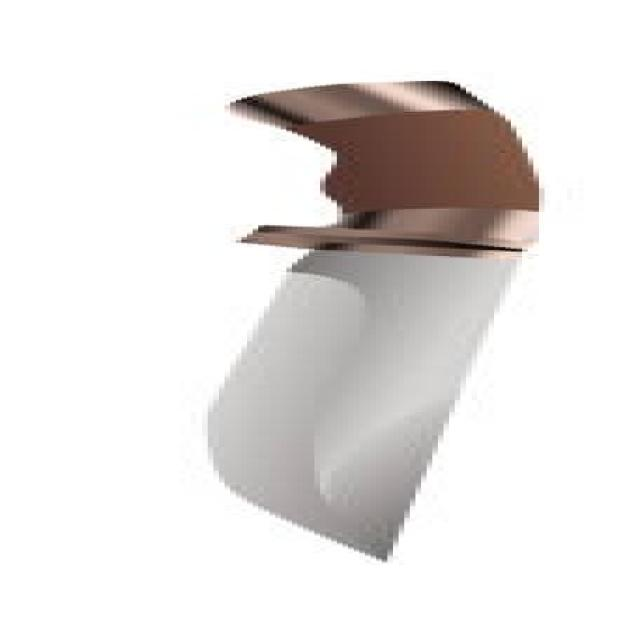knife: (199, 75, 559, 565)
